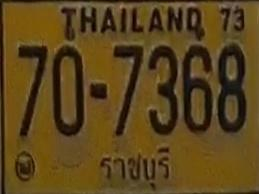0: (52, 45, 83, 136)
3: (148, 45, 178, 134)
6: (182, 45, 212, 133)
7: (112, 44, 143, 135), (18, 45, 48, 136)
8: (216, 43, 246, 132)
RBR: (91, 144, 175, 193)
